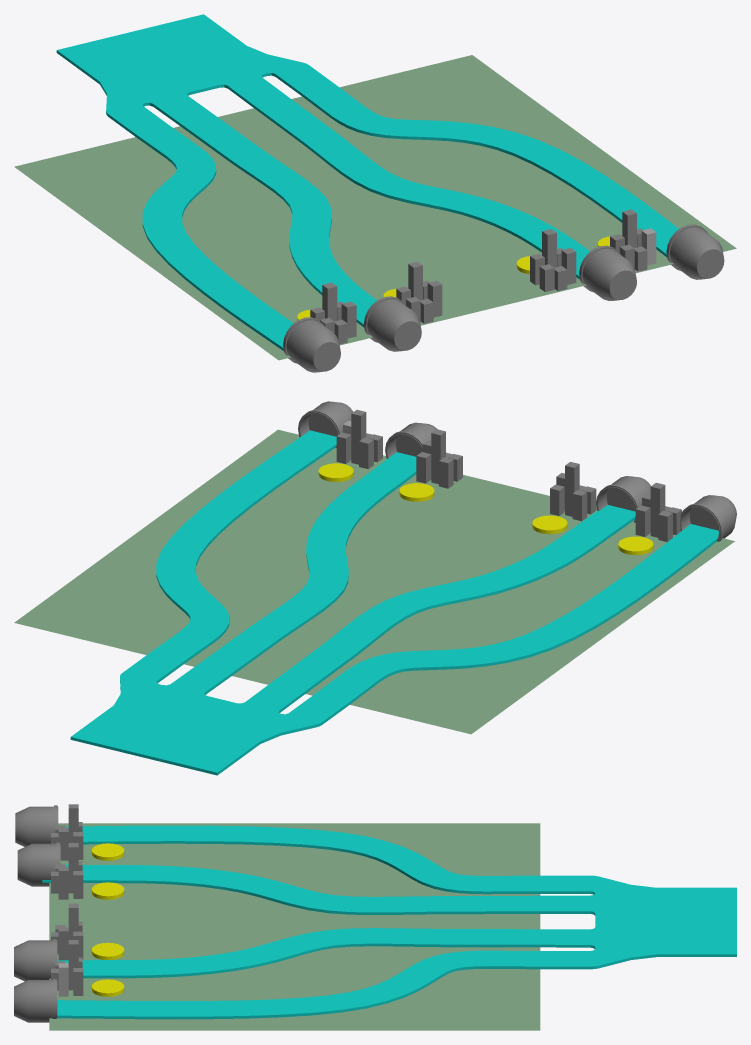
File: Blockout Map.fbx
3 views of the same model, one above another, from view 1: azimuth 30°, elevation 25°; view 2: azimuth 150°, elevation 25°; view 3: azimuth 270°, elevation 25° (orthographic). The views are drawn at different scales.
Visible parts, largest first — view 1: pPlane1, pCube3, pCylinder1, pCylinder4, pCylinder2, pCylinder3; view 2: pPlane1, pCube3, pCylinder4, pCylinder1, pCylinder3, pCylinder2, pCube16, pCube6, pCube10, pCube22; view 3: pPlane1, pCube3, pCylinder1, pCylinder2, pCylinder3, pCylinder4, pCylinder5, pCylinder7, pCylinder8, pCylinder6, pCube22, pCube6.
Boxes of the visible parts, left/top/right/bottom form: pPlane1: left=14, top=55, right=736, bottom=360; pCube3: left=56, top=14, right=678, bottom=350; pCylinder1: left=666, top=224, right=724, bottom=279; pCylinder4: left=283, top=317, right=340, bottom=372; pCylinder2: left=579, top=245, right=636, bottom=301; pCylinder3: left=364, top=296, right=421, bottom=351; pPlane1: left=14, top=429, right=734, bottom=734; pCube3: left=70, top=430, right=718, bottom=775; pCylinder4: left=680, top=495, right=736, bottom=541; pCylinder1: left=298, top=401, right=353, bottom=447; pCylinder3: left=596, top=476, right=650, bottom=522; pCylinder2: left=385, top=422, right=437, bottom=458; pCube16: left=650, top=482, right=665, bottom=537; pCube6: left=351, top=409, right=366, bottom=464; pCube10: left=431, top=429, right=445, bottom=484; pCube22: left=565, top=462, right=579, bottom=516; pPlane1: left=49, top=823, right=540, bottom=1030; pCube3: left=26, top=825, right=736, bottom=1019; pCylinder1: left=14, top=978, right=57, bottom=1022; pCylinder2: left=14, top=939, right=57, bottom=981; pCylinder3: left=17, top=842, right=60, bottom=886; pCylinder4: left=15, top=805, right=58, bottom=846; pCylinder5: left=91, top=979, right=124, bottom=996; pCylinder7: left=91, top=882, right=124, bottom=899; pCylinder8: left=91, top=843, right=124, bottom=860; pCylinder6: left=91, top=942, right=124, bottom=959; pCube22: left=68, top=843, right=78, bottom=893; pCube6: left=68, top=940, right=78, bottom=990.
Size of the model in its own units: 48.86 by 6.34 by 71.91.
